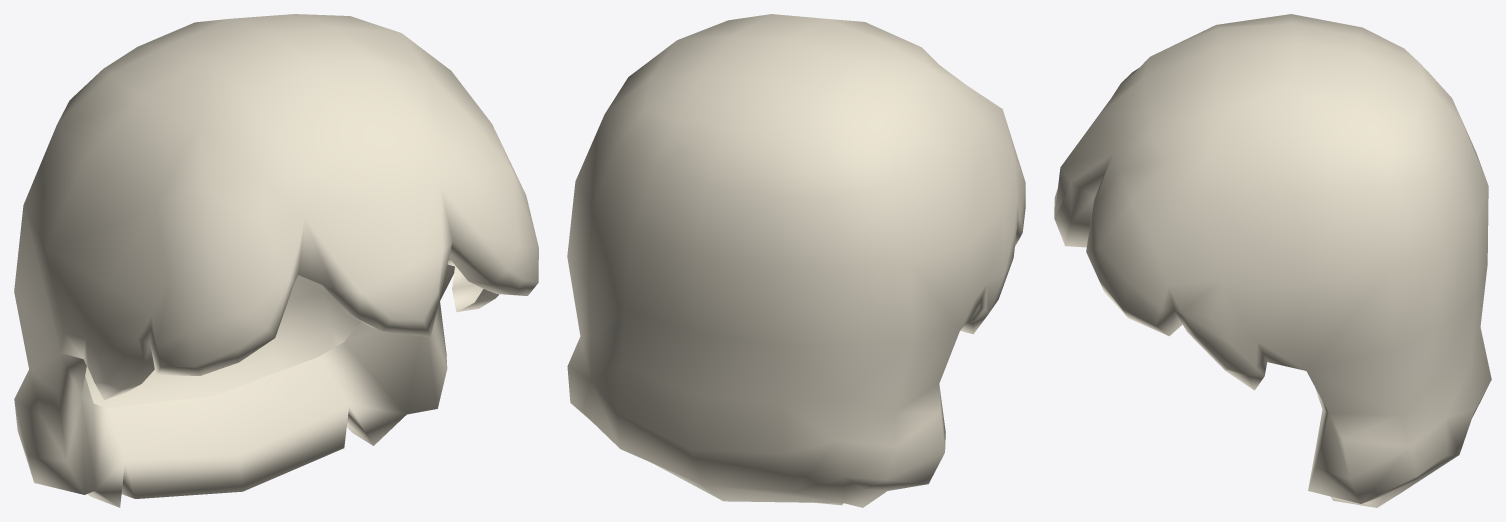
The model's file is Hair_4.fbx.
3 renders of one model, left to right at view 1: azimuth 30°, elevation 25°; view 2: azimuth 150°, elevation 25°; view 3: azimuth 270°, elevation 25°, orthographic. The views are drawn at different scales.
Parts seen in each view (by area): view 1: Hair_4; view 2: Hair_4; view 3: Hair_4.
Part boxes in pixels (box(x1,y1,x2,y2)): Hair_4: box(14, 14, 538, 507); Hair_4: box(567, 14, 1025, 507); Hair_4: box(1054, 14, 1491, 507).
Bounding box in the file's own units: 54.73 × 58.82 × 55.19.
